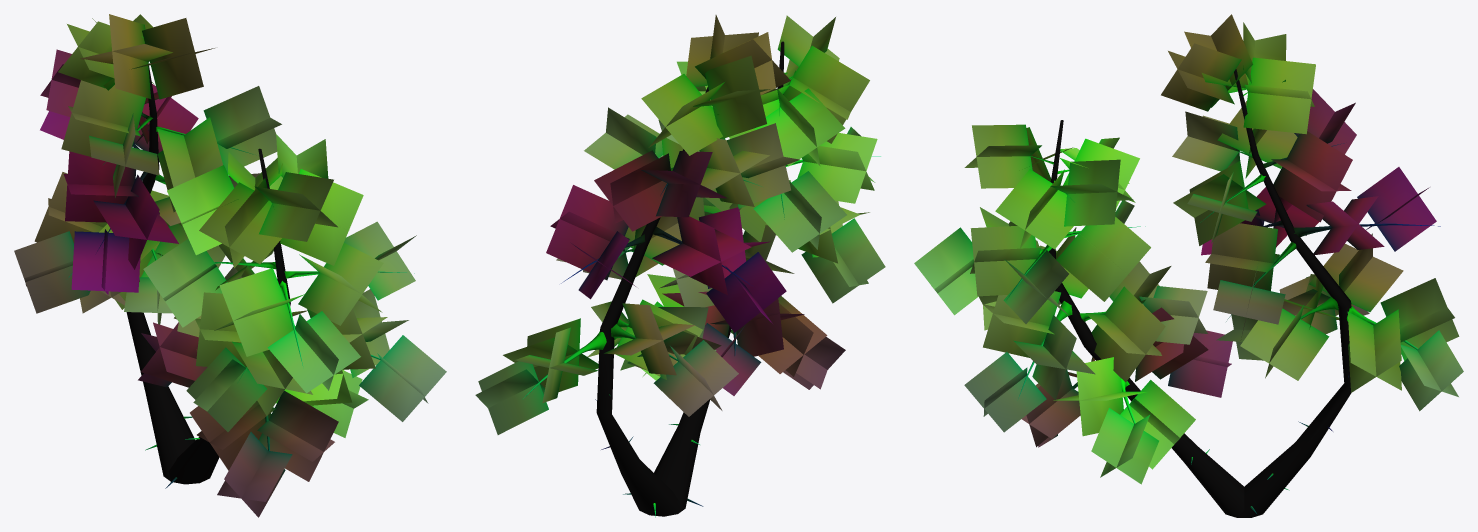
The model's file is URP_P7_Tree_10_LOD_2.fbx.
3 views of the same model, side by side, from view 1: azimuth 30°, elevation 25°; view 2: azimuth 150°, elevation 25°; view 3: azimuth 270°, elevation 25° (orthographic). The views are drawn at different scales.
Visible parts, largest first — view 1: Tree_10_LOD_2; view 2: Tree_10_LOD_2; view 3: Tree_10_LOD_2.
Part boxes in pixels (x1,y1,x2,y2): Tree_10_LOD_2: (14,14,446,517); Tree_10_LOD_2: (475,15,885,517); Tree_10_LOD_2: (914,14,1463,517).
Size of the model in its own units: 245 by 471 by 515.
